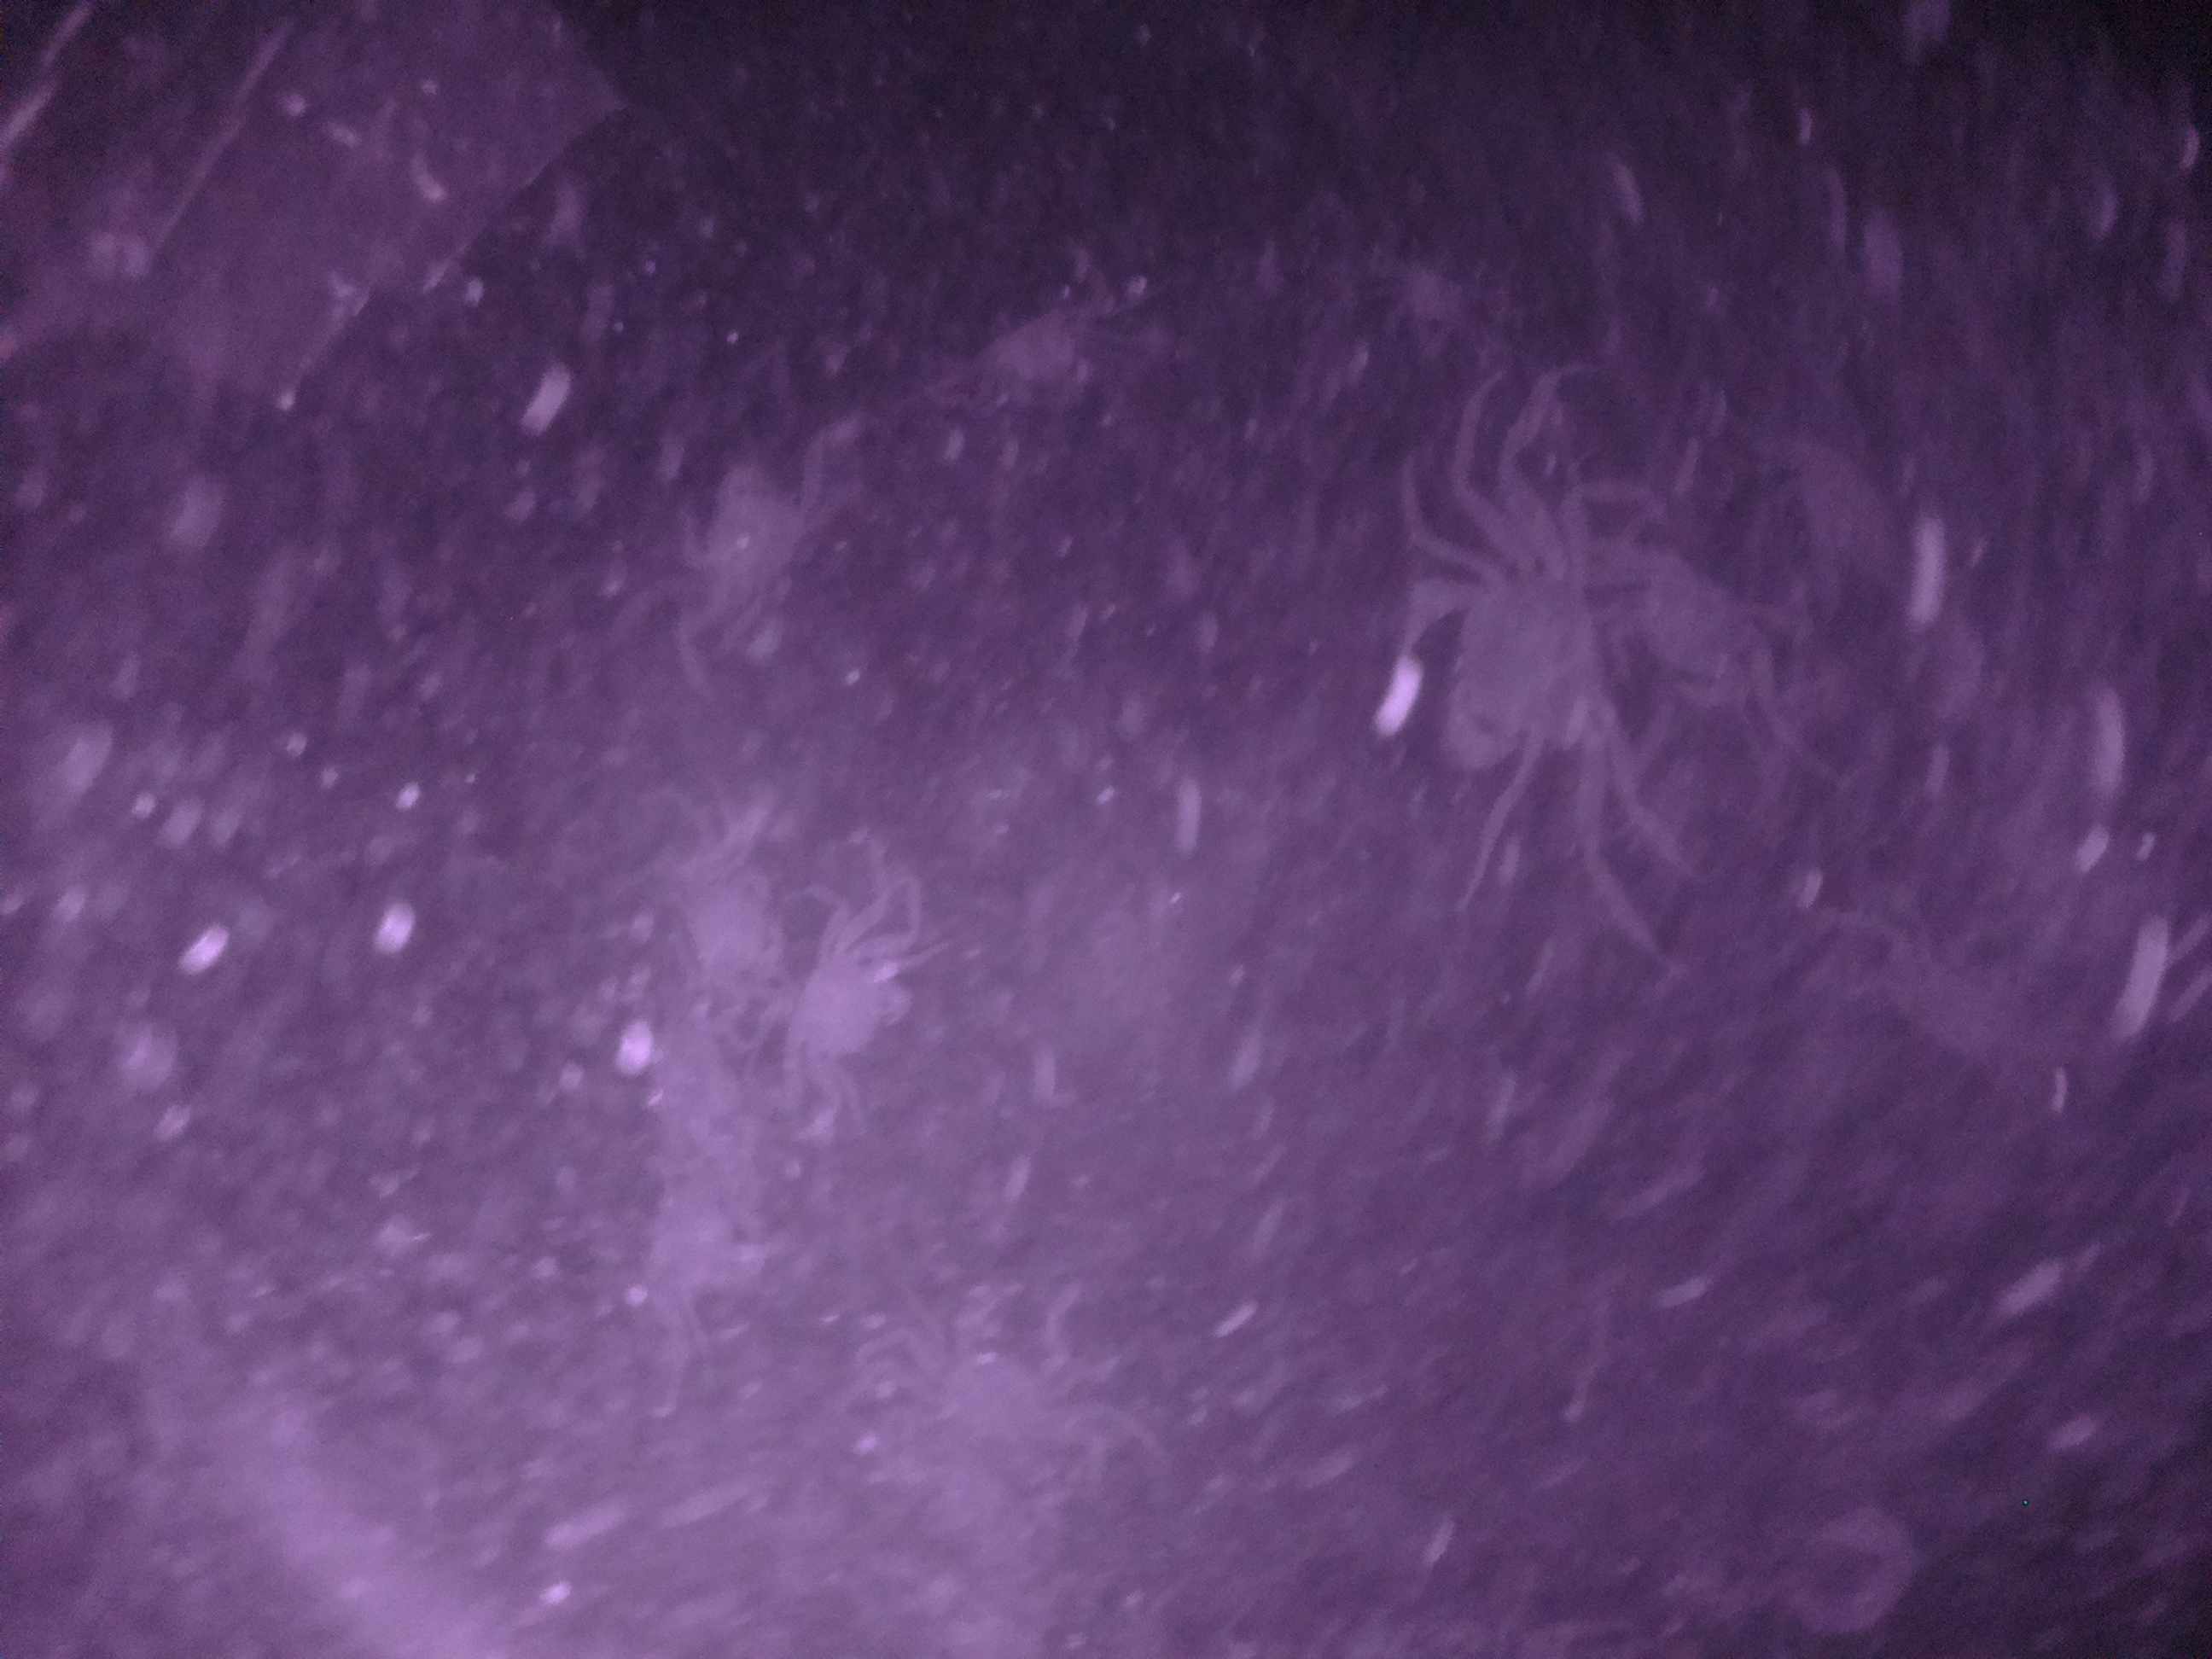Crab: (1376, 488, 1644, 774), (770, 910, 944, 1126)
